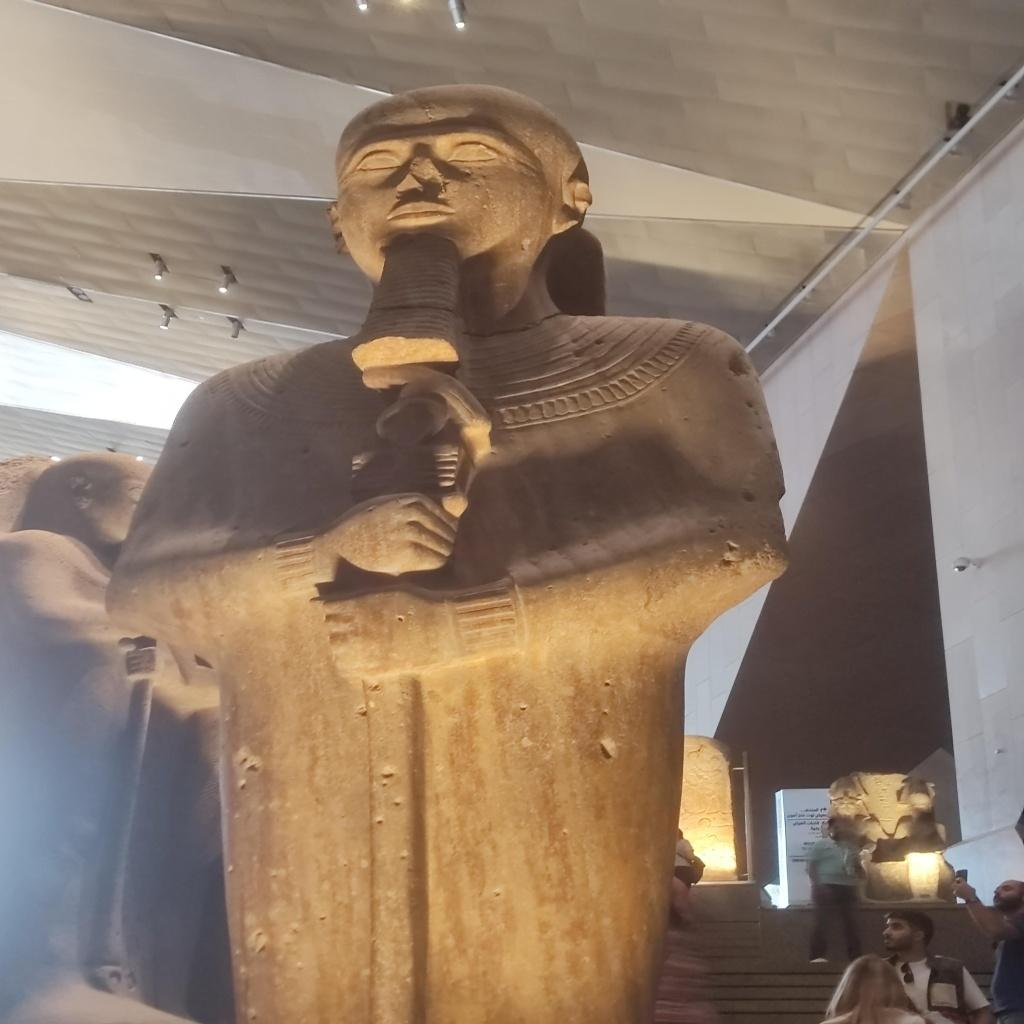Colossal Statue of God Ptah: (100, 78, 796, 1020)
